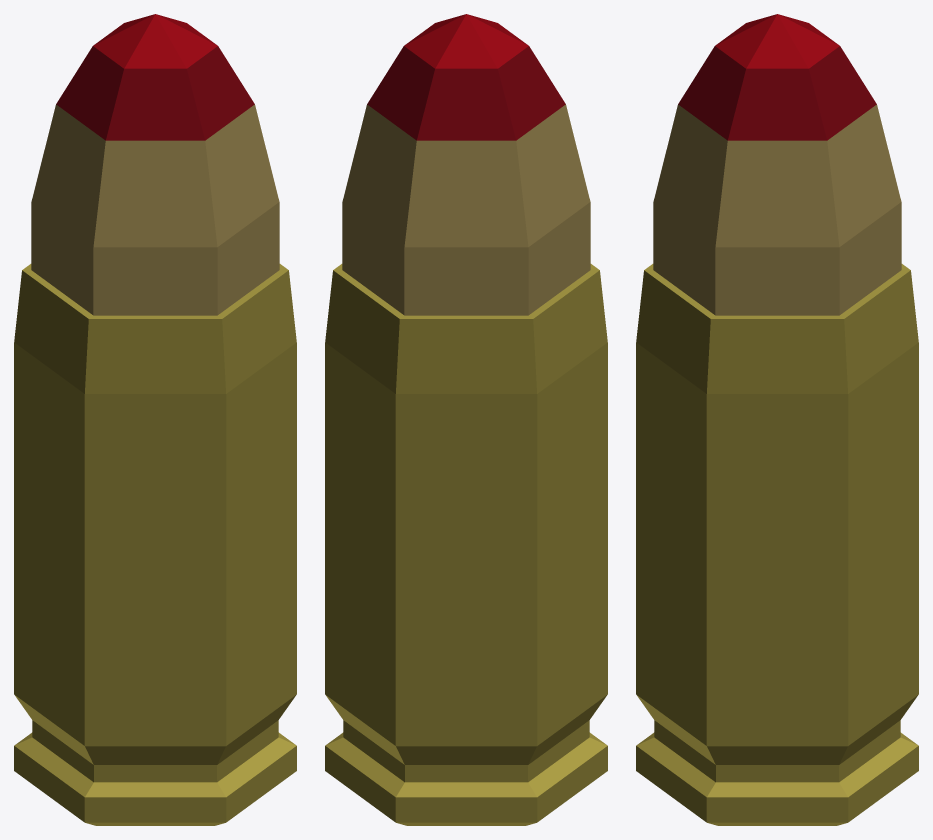
File: MW1_Ammunition_9mm_03.fbx
3 renders of one model, left to right at view 1: azimuth 30°, elevation 25°; view 2: azimuth 150°, elevation 25°; view 3: azimuth 270°, elevation 25°, orthographic.
Visible parts, largest first — view 1: Ammunition_9mm_03; view 2: Ammunition_9mm_03; view 3: Ammunition_9mm_03.
Boxes of the visible parts, left/top/right/bottom form: Ammunition_9mm_03: left=14, top=14, right=296, bottom=825; Ammunition_9mm_03: left=325, top=14, right=607, bottom=825; Ammunition_9mm_03: left=636, top=14, right=918, bottom=825.
Bounding box in the file's own units: 0.866 × 3 × 1.
